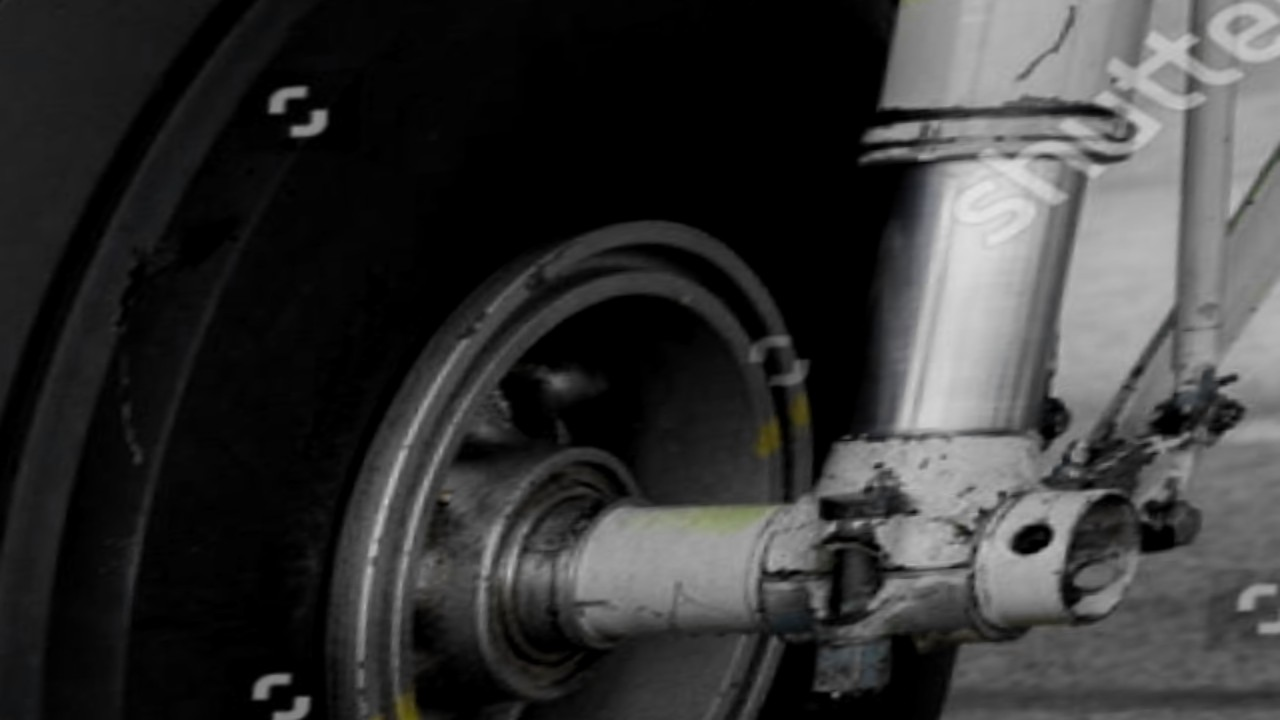wheel: (0, 0, 1113, 720)
